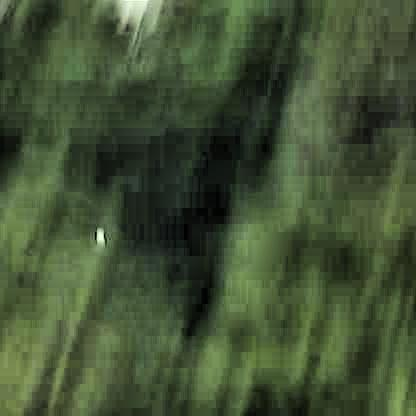golfball: (93, 229, 104, 240)
